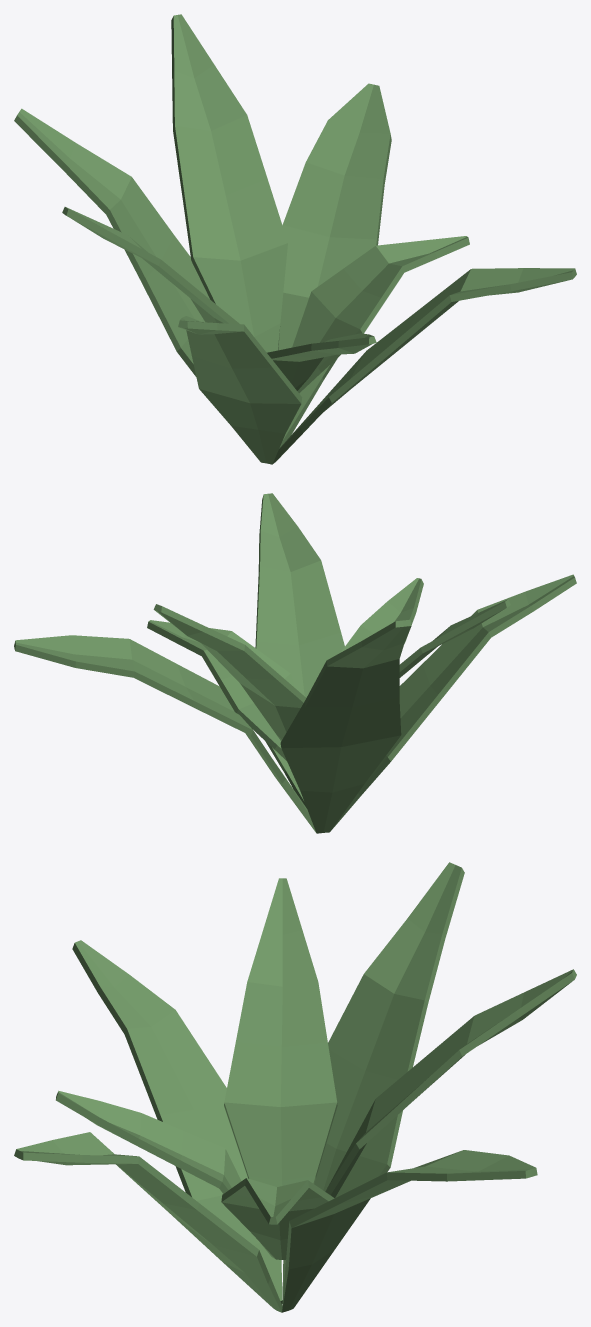
The model's file is 3DObj_Grass_V3.fbx.
3 views of the same model, one above another, from view 1: azimuth 30°, elevation 25°; view 2: azimuth 150°, elevation 25°; view 3: azimuth 270°, elevation 25° (orthographic). The views are drawn at different scales.
Visible parts, largest first — view 1: 3DObj_Grass_V3; view 2: 3DObj_Grass_V3; view 3: 3DObj_Grass_V3.
Boxes of the visible parts, x1,y1,x2,y2 form: 3DObj_Grass_V3: (14,14,576,464); 3DObj_Grass_V3: (14,493,576,833); 3DObj_Grass_V3: (14,862,576,1312).
Bounding box in the file's own units: 52.03 × 38.94 × 55.06.
